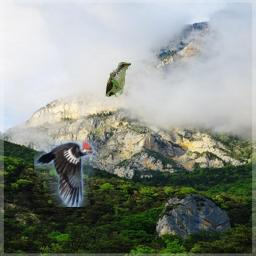Cuckoo: (105, 62, 131, 97)
Woodpecker: (34, 140, 97, 207)
